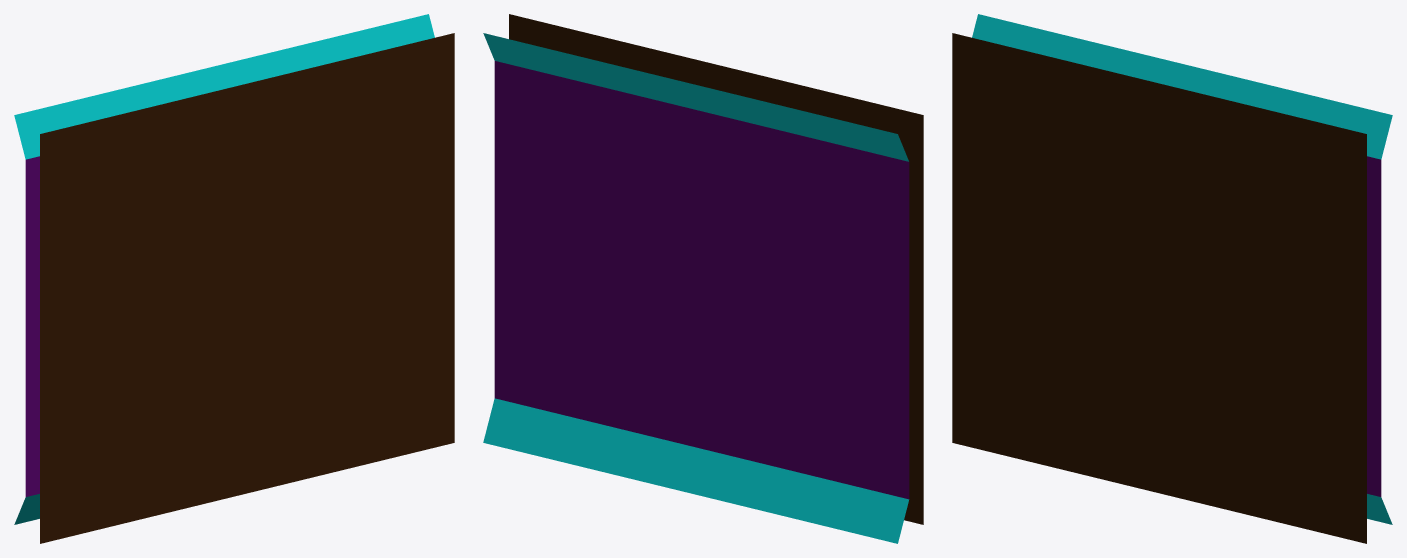
File: OBJ_Tile_Mur_Grand.fbx
3 views of the same model, side by side, from view 1: azimuth 30°, elevation 25°; view 2: azimuth 150°, elevation 25°; view 3: azimuth 330°, elevation 25° (orthographic).
Parts seen in each view (by area): view 1: OBJ_Tile_Mur_Grand; view 2: OBJ_Tile_Mur_Grand; view 3: OBJ_Tile_Mur_Grand.
Part boxes in pixels (<box>): OBJ_Tile_Mur_Grand: <box>14,14,454,543</box>; OBJ_Tile_Mur_Grand: <box>483,14,923,543</box>; OBJ_Tile_Mur_Grand: <box>952,14,1392,543</box>.
Bounding box in the file's own units: 12 × 11.33 × 1.3.
